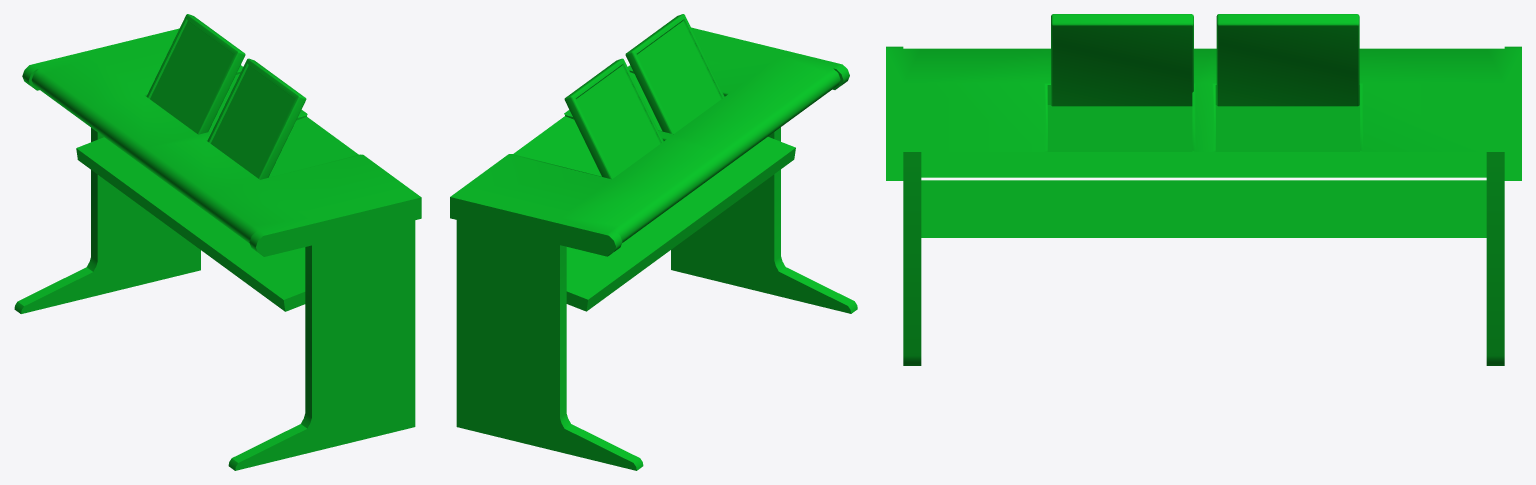
File: PC_Table.FBX
3 views of the same model, side by side, from view 1: azimuth 30°, elevation 25°; view 2: azimuth 150°, elevation 25°; view 3: azimuth 270°, elevation 25° (orthographic). The views are drawn at different scales.
Visible parts, largest first — view 1: Pc_table; view 2: Pc_table; view 3: Pc_table.
Boxes of the visible parts, x1=… form: Pc_table: x1=14, y1=14, x2=421, y2=470; Pc_table: x1=450, y1=14, x2=857, y2=470; Pc_table: x1=886, y1=14, x2=1521, y2=365.
Bounding box in the file's own units: 54.96 × 88.49 × 122.
